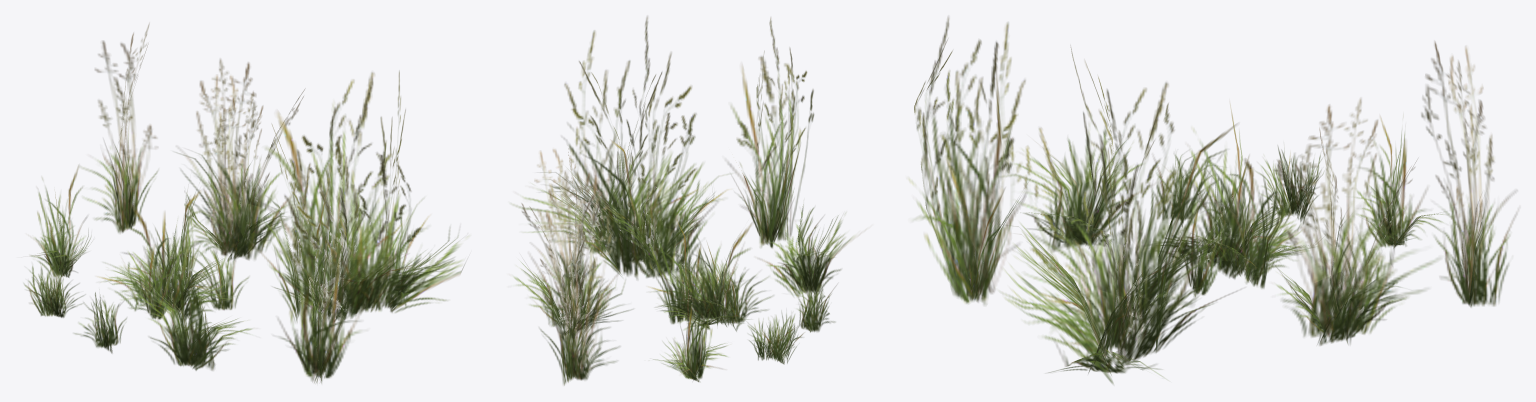
Rendered from bush.glb.
3 renders of one model, left to right at view 1: azimuth 30°, elevation 25°; view 2: azimuth 150°, elevation 25°; view 3: azimuth 270°, elevation 25°, orthographic. The views are drawn at different scales.
Parts seen in each view (by area): view 1: tall_bush_1, tall_bush_3, tall_bush_2, Medium_bush_1, tall_bush_4, Medium_bush_2, Medium_bush_3, Small_bush_1, Small_bush_2; view 2: tall_bush_1, tall_bush_2, tall_bush_3, Medium_bush_1, tall_bush_4, Medium_bush_2, Medium_bush_3, Small_bush_1, Small_bush_2; view 3: tall_bush_1, tall_bush_2, tall_bush_3, Medium_bush_1, tall_bush_4, Medium_bush_2, Medium_bush_3, Small_bush_1, Small_bush_2.
Boxes of the visible parts, bbox=[...] form: tall_bush_1: bbox=[252, 70, 469, 322]; tall_bush_3: bbox=[175, 59, 304, 261]; tall_bush_2: bbox=[278, 149, 363, 383]; Medium_bush_1: bbox=[97, 190, 249, 324]; tall_bush_4: bbox=[80, 23, 158, 233]; Medium_bush_2: bbox=[134, 263, 253, 370]; Medium_bush_3: bbox=[28, 165, 90, 277]; Small_bush_1: bbox=[23, 261, 84, 317]; Small_bush_2: bbox=[74, 292, 126, 353]; tall_bush_1: bbox=[510, 16, 732, 279]; tall_bush_2: bbox=[726, 17, 813, 248]; tall_bush_3: bbox=[512, 148, 632, 334]; Medium_bush_1: bbox=[648, 219, 773, 333]; tall_bush_4: bbox=[537, 176, 619, 385]; Medium_bush_2: bbox=[756, 204, 867, 297]; Medium_bush_3: bbox=[653, 278, 727, 381]; Small_bush_1: bbox=[748, 311, 804, 364]; Small_bush_2: bbox=[795, 279, 836, 332]; tall_bush_1: bbox=[999, 45, 1240, 384]; tall_bush_2: bbox=[908, 16, 1026, 304]; tall_bush_3: bbox=[1271, 98, 1440, 345]; Medium_bush_1: bbox=[1150, 104, 1313, 297]; tall_bush_4: bbox=[1421, 41, 1518, 307]; Medium_bush_2: bbox=[1000, 124, 1155, 251]; Medium_bush_3: bbox=[1355, 116, 1444, 248]; Small_bush_1: bbox=[1255, 147, 1323, 223]; Small_bush_2: bbox=[1153, 153, 1214, 227].
Size of the model in its own units: 224 by 145 by 256.
1 material, 1 textured.
